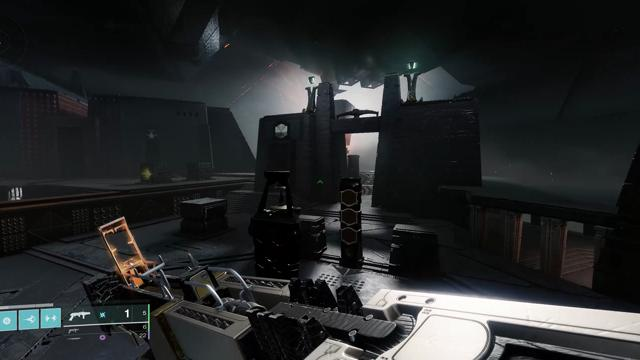commune: (275, 124, 288, 138)
drink: (145, 128, 158, 139)
